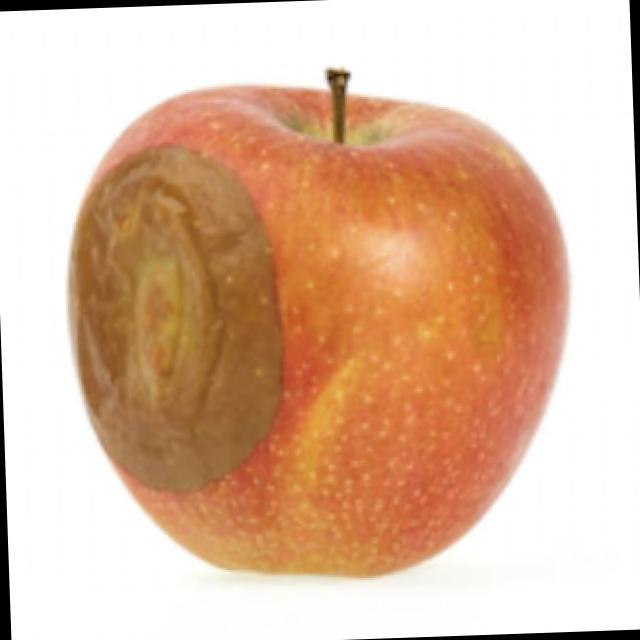rotten_apple: (66, 64, 580, 586)
